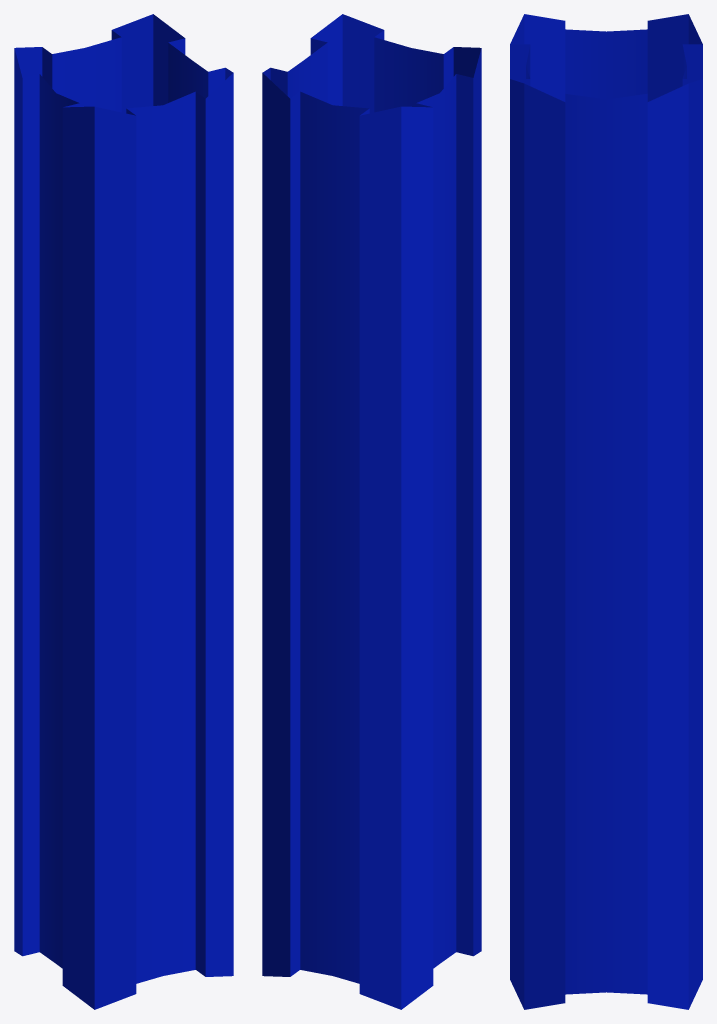
File: Mod_MechaArm.fbx
3 views of the same model, side by side, from view 1: azimuth 30°, elevation 25°; view 2: azimuth 150°, elevation 25°; view 3: azimuth 270°, elevation 25° (orthographic). The views are drawn at different scales.
Visible parts, largest first — view 1: Mod_MechaArm; view 2: Mod_MechaArm; view 3: Mod_MechaArm.
Boxes of the visible parts, x1,y1,x2,y2 form: Mod_MechaArm: (14, 14, 233, 1009); Mod_MechaArm: (262, 14, 481, 1009); Mod_MechaArm: (510, 14, 702, 1009).
Size of the model in its own units: 64.99 by 345 by 64.99.
